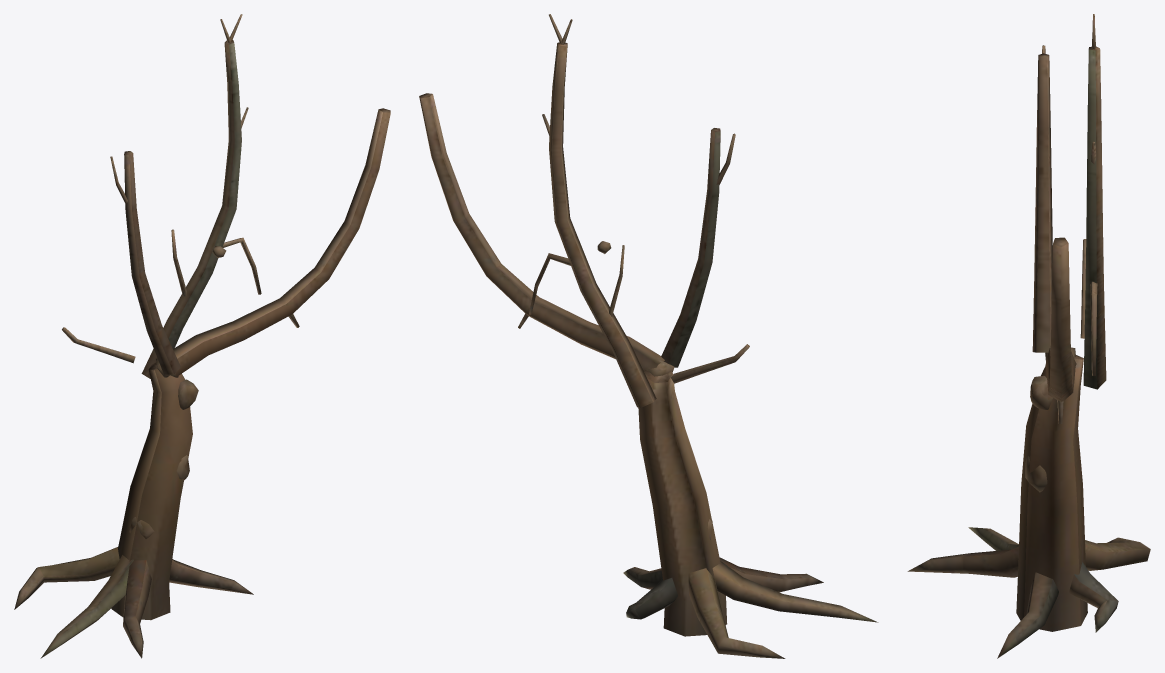
File: dead-tree-desert.glb
3 renders of one model, left to right at view 1: azimuth 30°, elevation 25°; view 2: azimuth 150°, elevation 25°; view 3: azimuth 270°, elevation 25°, orthographic. The views are drawn at different scales.
Parts seen in each view (by area): view 1: dead-tree-desert; view 2: dead-tree-desert; view 3: dead-tree-desert.
Boxes of the visible parts, <box> form: dead-tree-desert: <box>14,14,390,658</box>; dead-tree-desert: <box>419,14,878,658</box>; dead-tree-desert: <box>907,14,1150,658</box>.
Size of the model in its own units: 3.22 by 4.36 by 1.46.
1 material, 1 textured.
